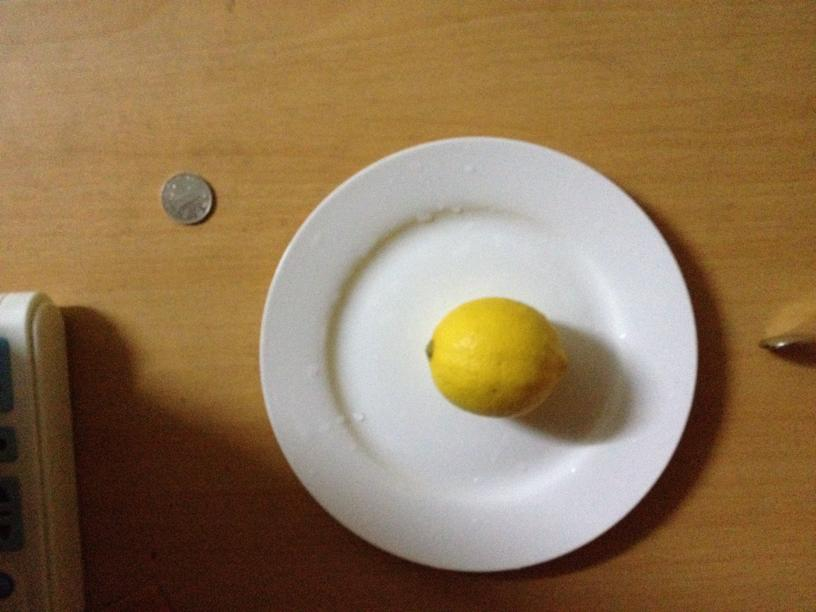coin: (161, 174, 212, 223)
lemon: (427, 297, 563, 419)
